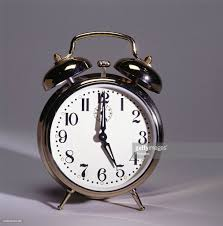alarm_clock: (39, 29, 164, 209)
